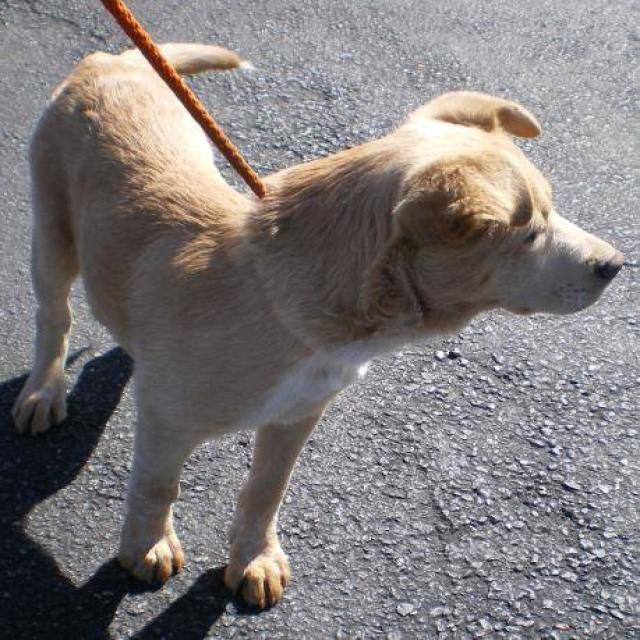dogs: (0, 36, 614, 582)
